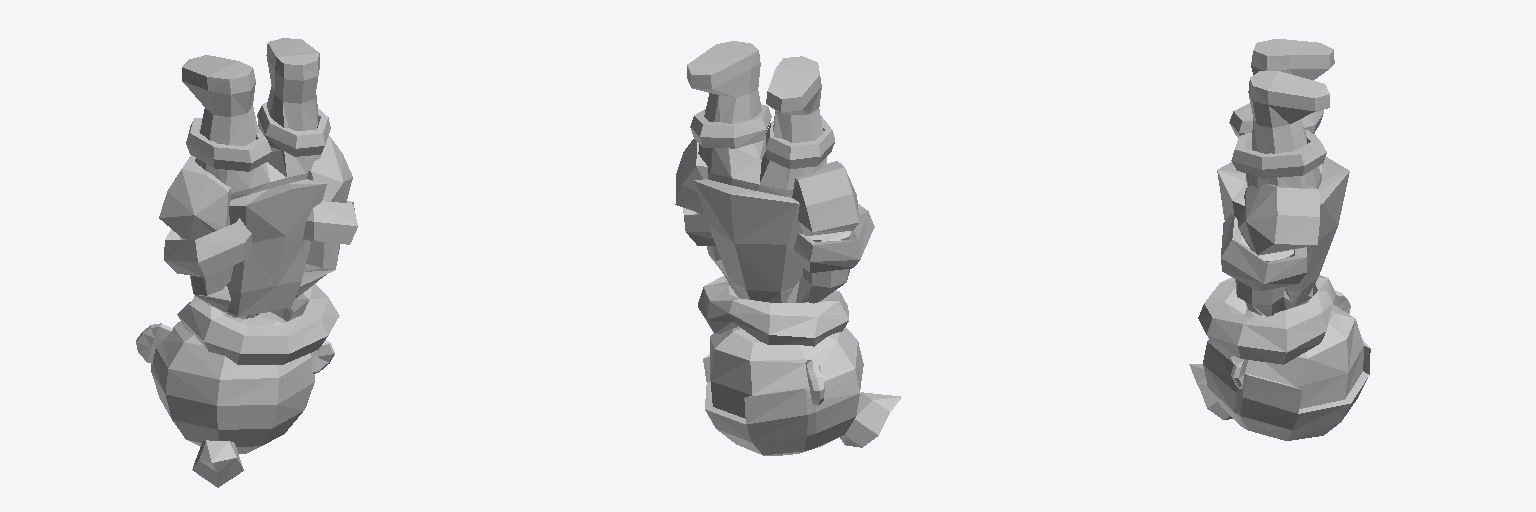
File: eikastanding_000231.obj
3 views of the same model, side by side, from view 1: azimuth 30°, elevation 25°; view 2: azimuth 150°, elevation 25°; view 3: azimuth 270°, elevation 25° (orthographic).
Visible parts, largest first — view 1: Cylinder; view 2: Cylinder; view 3: Cylinder.
Boxes of the visible parts, box(x1,y1,x2,y2) form: Cylinder: box(136, 38, 357, 487); Cylinder: box(675, 41, 901, 455); Cylinder: box(1189, 39, 1370, 440).
Size of the model in its own units: 26.45 by 52.38 by 22.02.